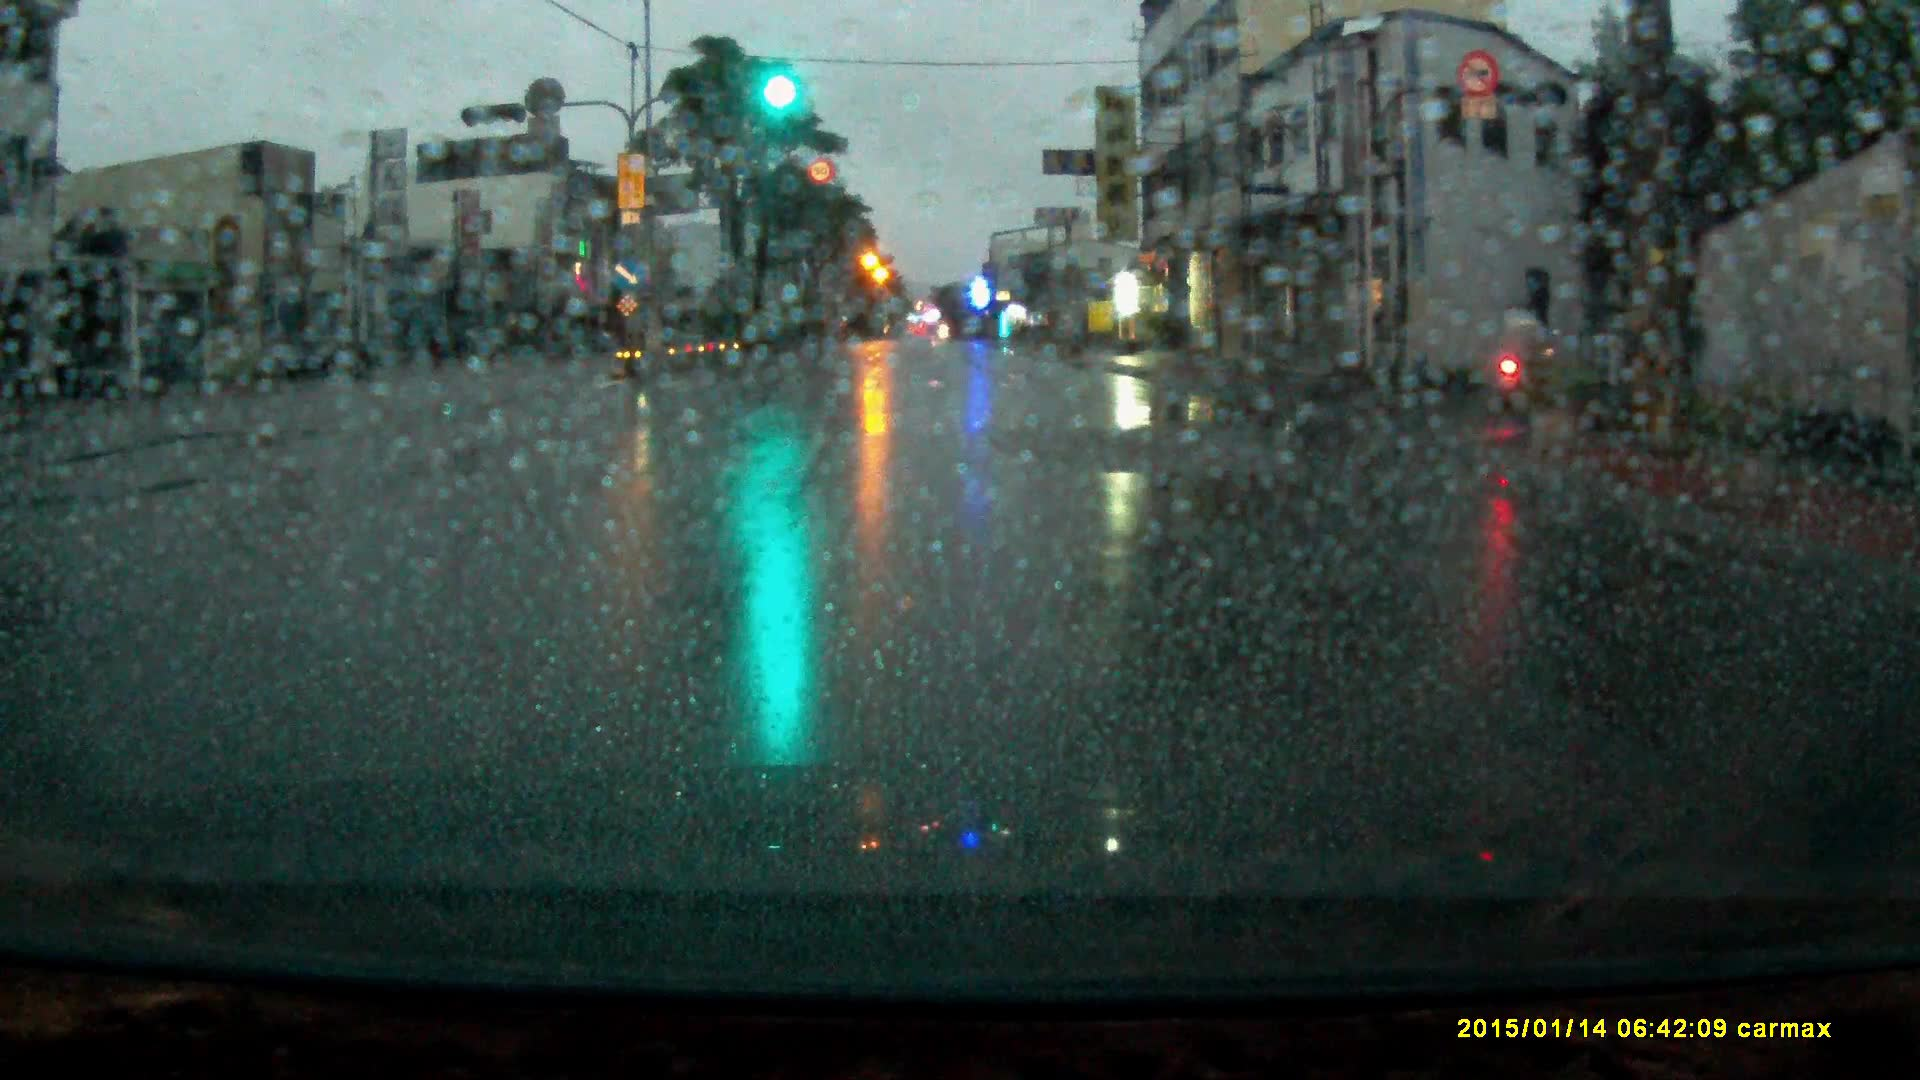rider: (1490, 290, 1560, 419)
